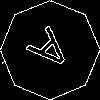A: (25, 25, 81, 82)
